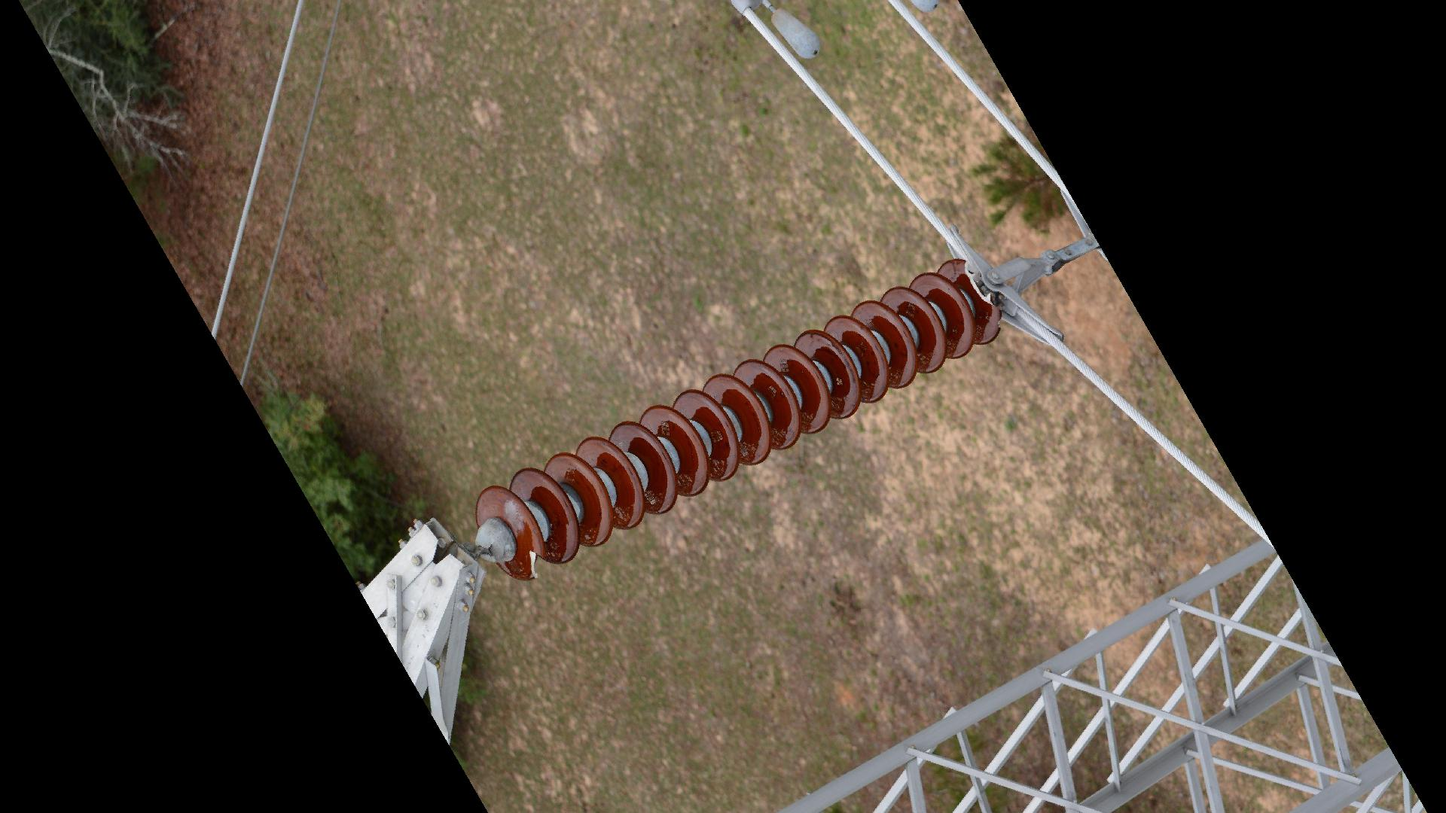insulator: (472, 250, 1014, 587)
insulator_breakage: (956, 257, 999, 312), (522, 543, 551, 583)
